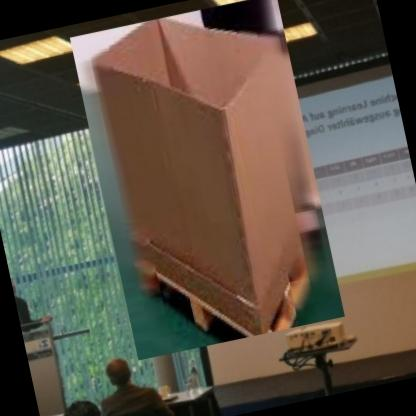box: (64, 0, 349, 366)
